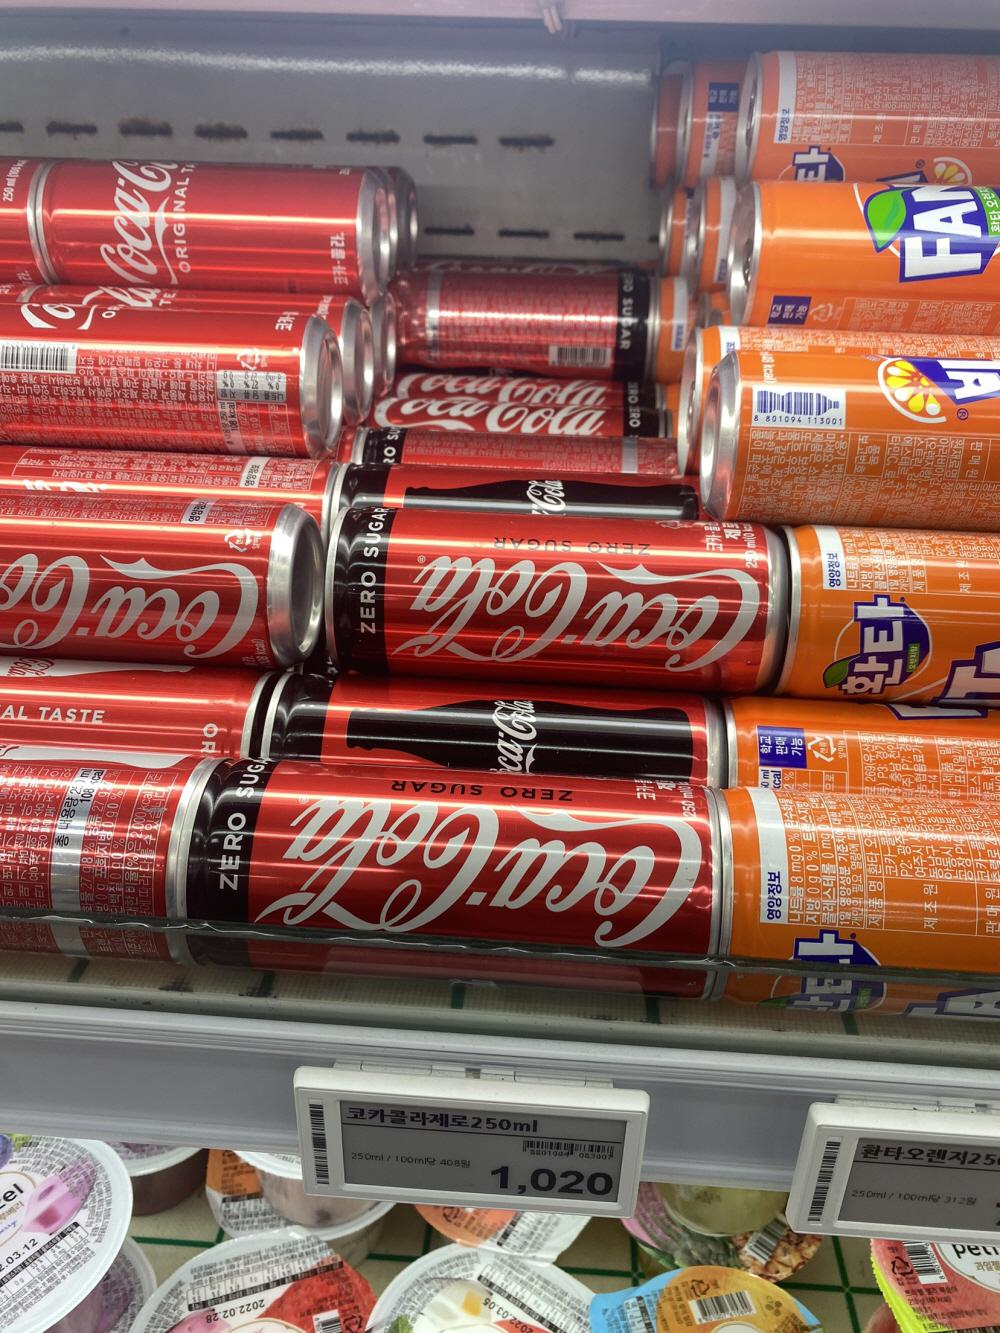cocacola_zero: (188, 767, 720, 941), (328, 501, 792, 659)
